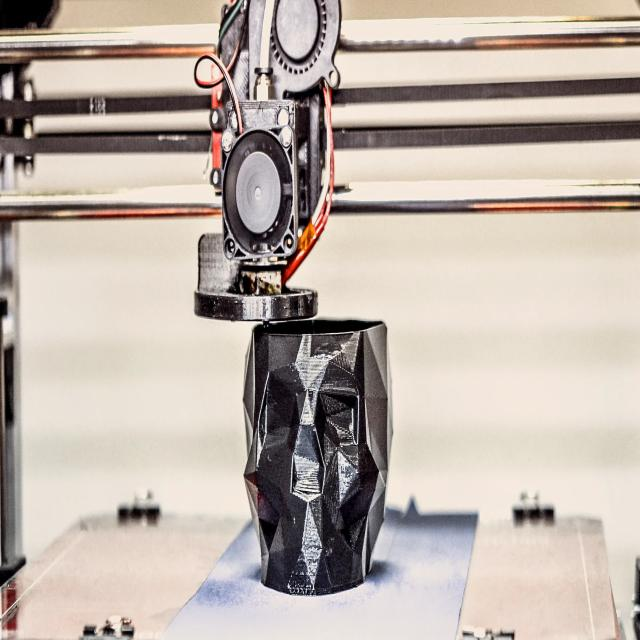Without deffect: (235, 323, 398, 605)
